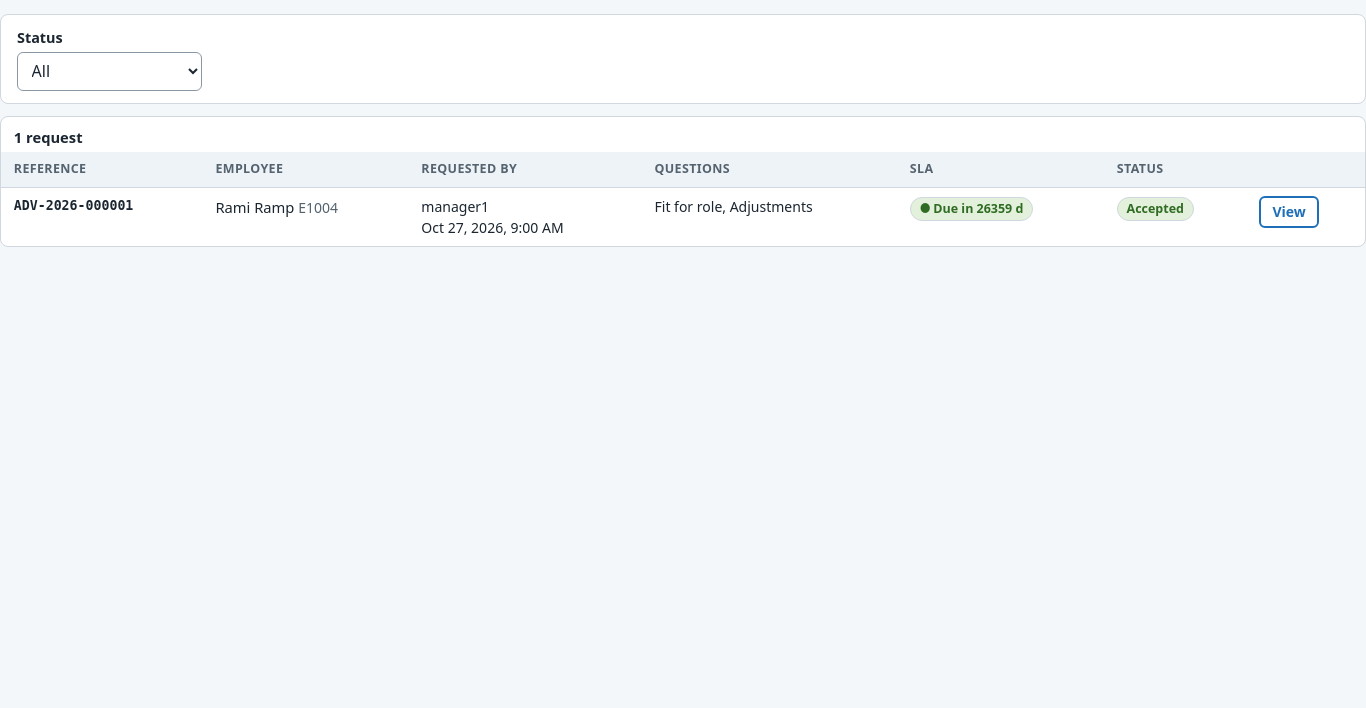
AbsenceAdvice › case managers can read but not edit
Click the button with aria-label "Open report for ADV-2026-000001" at (1289, 212), box [1259,196,1319,228]
(page scrolled)
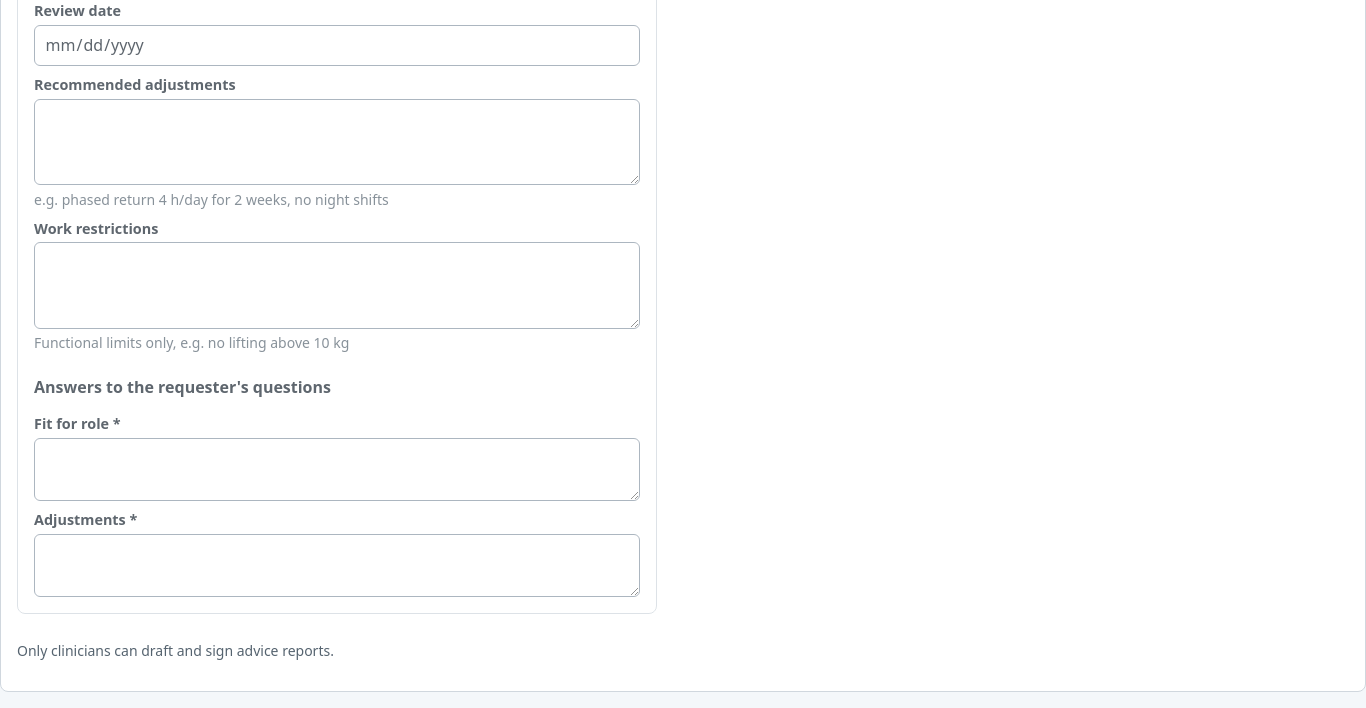
Now the text "Only clinicians can draft and sign advice reports." is shown, box [17,640,334,660]
